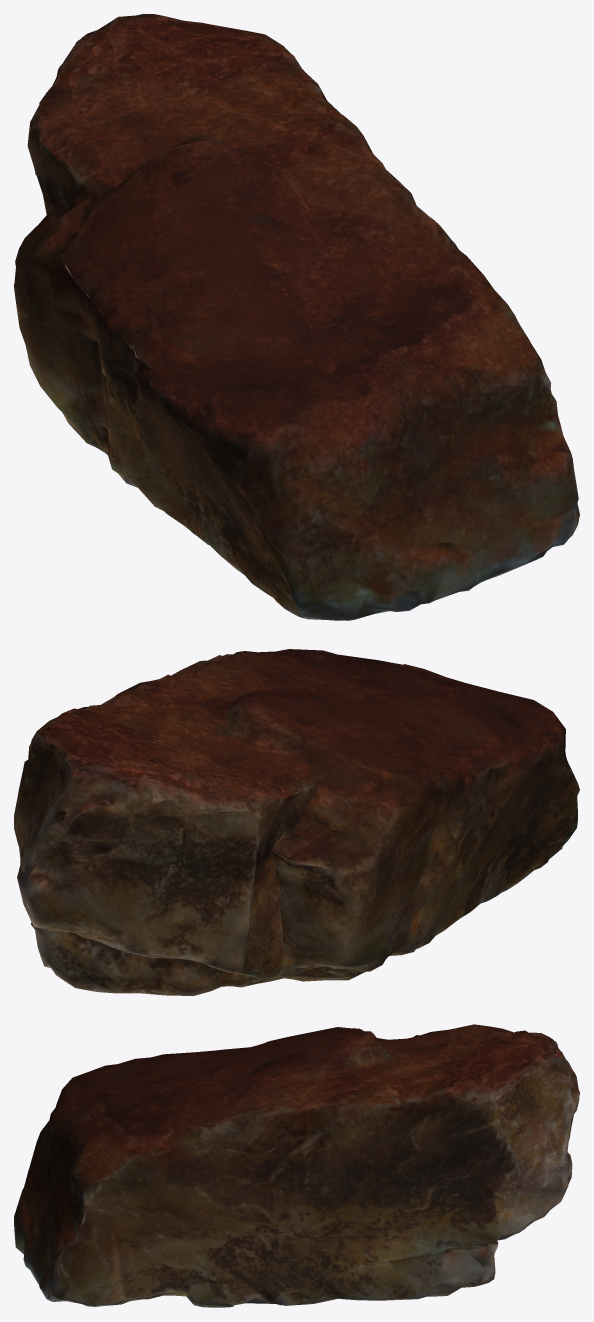
File: rock_07_lod0.glb
The picture shows the model from 3 angles, top to bottom: view 1: azimuth 30°, elevation 25°; view 2: azimuth 150°, elevation 25°; view 3: azimuth 270°, elevation 25°; orthographic projection. The views are drawn at different scales.
Visible parts, largest first — view 1: rock_07; view 2: rock_07; view 3: rock_07.
Part boxes in pixels (<box>): rock_07: <box>14,14,579,620</box>; rock_07: <box>14,649,579,995</box>; rock_07: <box>14,1024,579,1307</box>.
Bounding box in the file's own units: 0.1687 × 0.1436 × 0.3202.
1 material, 1 textured.
